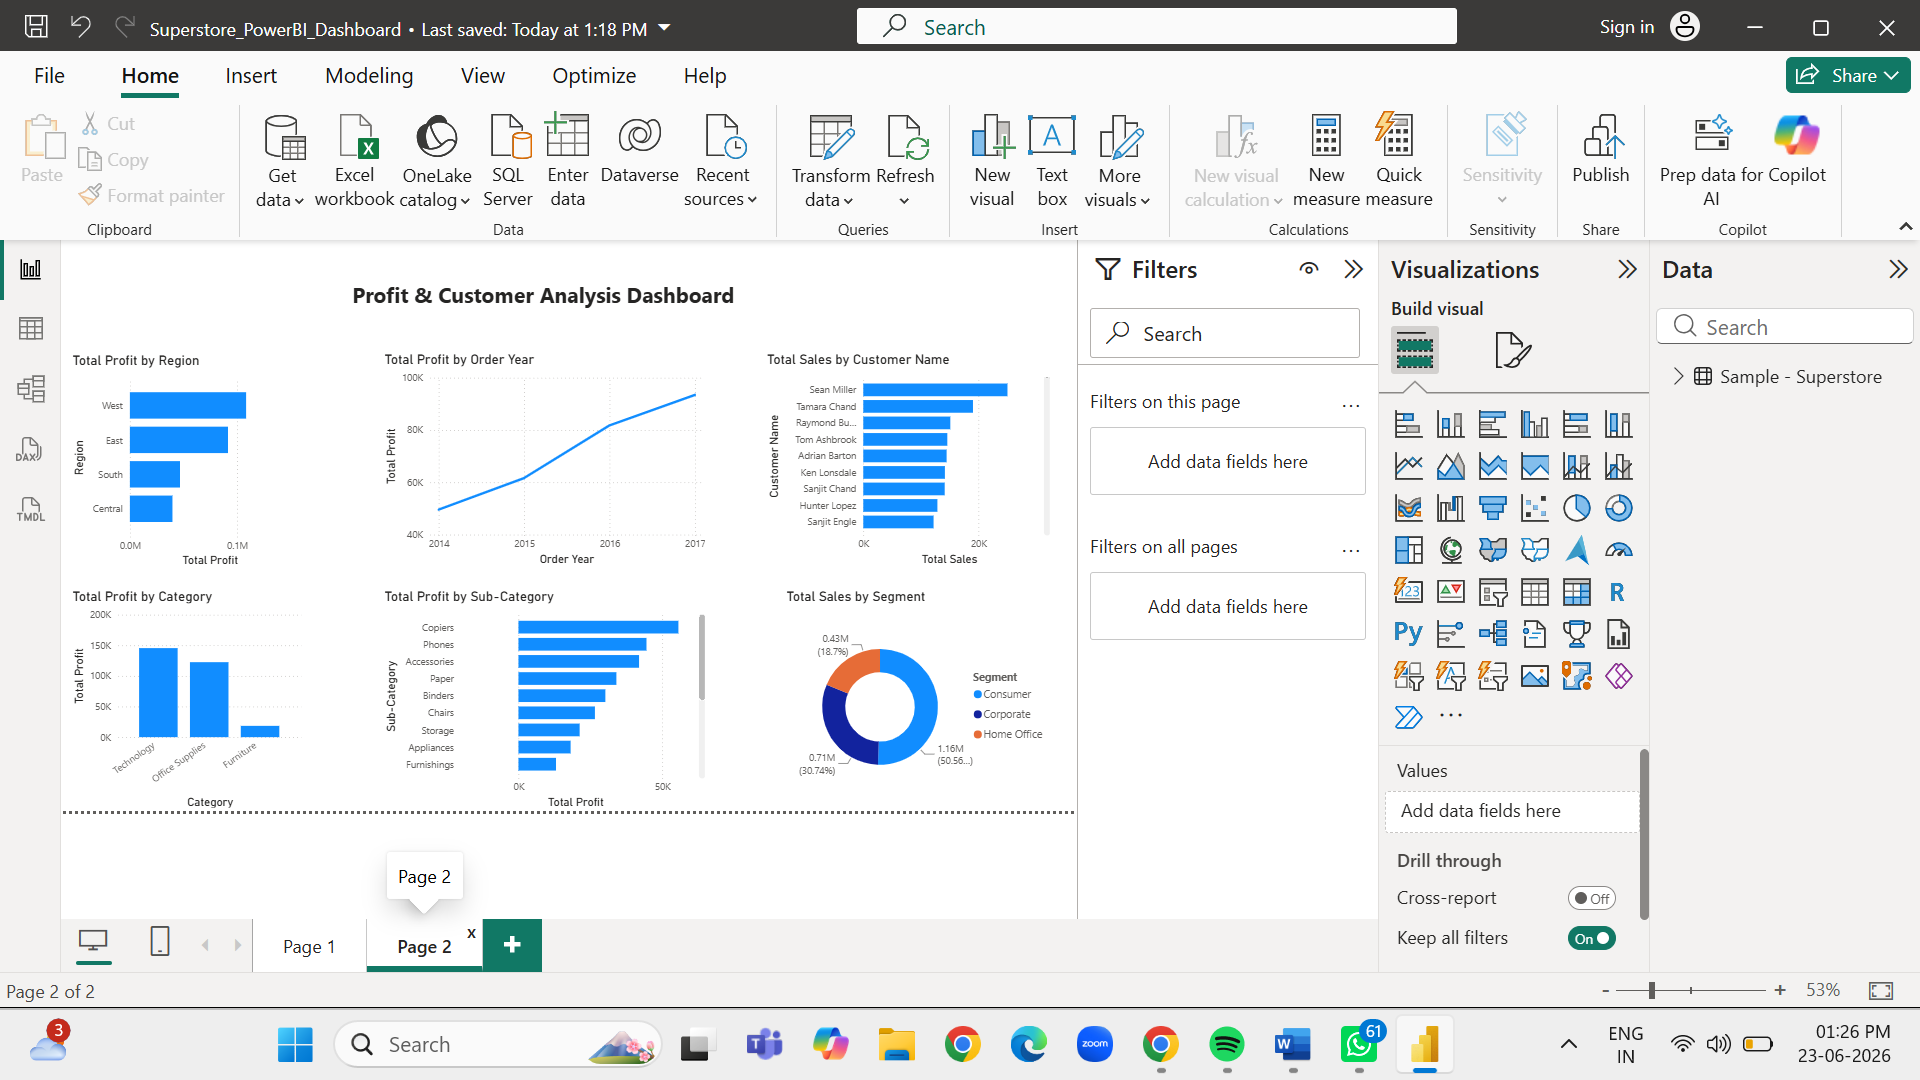

What the dashboard file says about the page in this screenshot:
{"tool":"powerbi","page":{"name":"Page 2","canvas":[1280,720],"ordinal":1},"visuals":[{"type":"clusteredBarChart","fields":{"Category":["Sample - Superstore.Region"],"Y":["Sample - Superstore.Total Profit"]},"box":[9.4,141.7,298.6,274],"z":0},{"type":"clusteredColumnChart","fields":{"Y":["Sample - Superstore.Total Profit"],"Category":["Sample - Superstore.Category"]},"box":[9.4,438.4,298.6,281.6],"z":1000},{"type":"lineChart","fields":{"Y":["Sample - Superstore.Total Profit"],"Category":["Sample - Superstore.Order Year"]},"box":[402.5,139.8,413.9,274],"z":2000},{"type":"clusteredBarChart","fields":{"Category":["Sample - Superstore.Sub-Category"],"Y":["Sample - Superstore.Total Profit"]},"box":[402.5,438.4,413.9,281.6],"z":3000},{"type":"clusteredBarChart","fields":{"Y":["Sample - Superstore.Total Sales"],"Category":["Sample - Superstore.Customer Name"]},"box":[884.4,139.8,366.6,274],"z":4000},{"type":"donutChart","fields":{"Category":["Sample - Superstore.Segment"],"Y":["Sample - Superstore.Total Sales"]},"box":[909,438.4,342,279.7],"z":6000},{"type":"textbox","box":[355.3,45.4,504.6,54.8],"z":6001}]}

Visuals, with their boxes on the page's 1280x720 design canvas (x1, y1, x2, y2). These are canvas units, not pixel positions in the 1920x1080 screenshot, which may show the page scaled, cropped or inside an application window:
clusteredBarChart - Sample - Superstore.Region x Sample - Superstore.Total Profit: crop(9, 142, 308, 416)
clusteredColumnChart - Sample - Superstore.Total Profit x Sample - Superstore.Category: crop(9, 438, 308, 720)
lineChart - Sample - Superstore.Total Profit x Sample - Superstore.Order Year: crop(402, 140, 816, 414)
clusteredBarChart - Sample - Superstore.Sub-Category x Sample - Superstore.Total Profit: crop(402, 438, 816, 720)
clusteredBarChart - Sample - Superstore.Total Sales x Sample - Superstore.Customer Name: crop(884, 140, 1251, 414)
donutChart - Sample - Superstore.Segment x Sample - Superstore.Total Sales: crop(909, 438, 1251, 718)
textbox: crop(355, 45, 860, 100)
